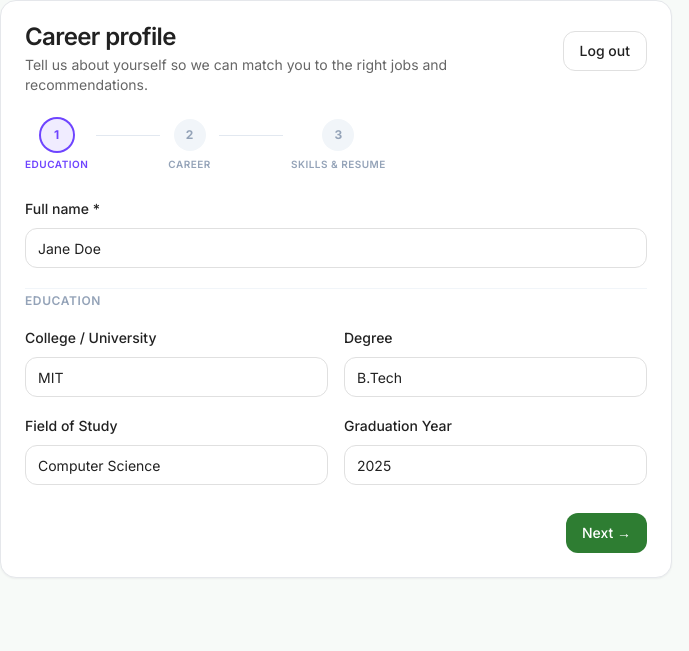
Test: ProfileForm › saves profile on final step submission
Expected: the field labelled "Full name *" is shown, [25, 228, 647, 268]
Click the button "Next →". click: (606, 533)
box: [566, 513, 647, 553]
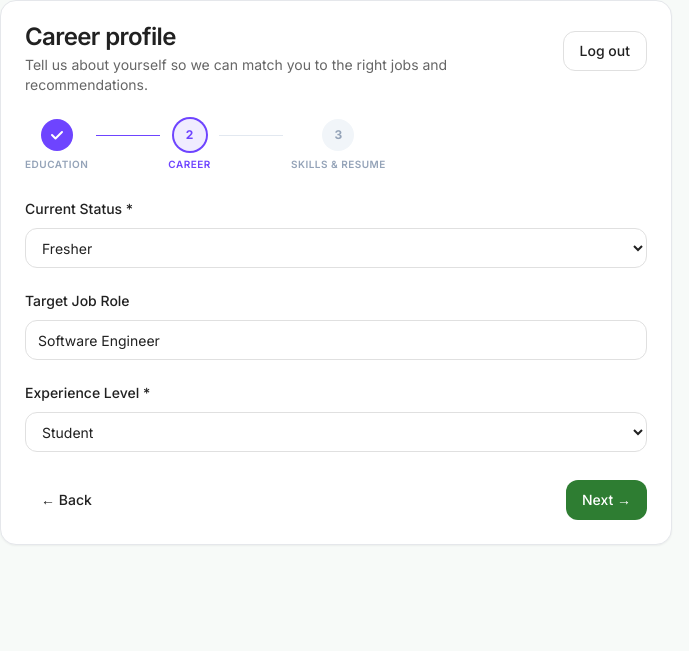
Expected: the dropdown labelled "Current Status *" is shown, [25, 228, 647, 268]
Click the button "Next →". click: (606, 500)
box: [566, 480, 647, 520]
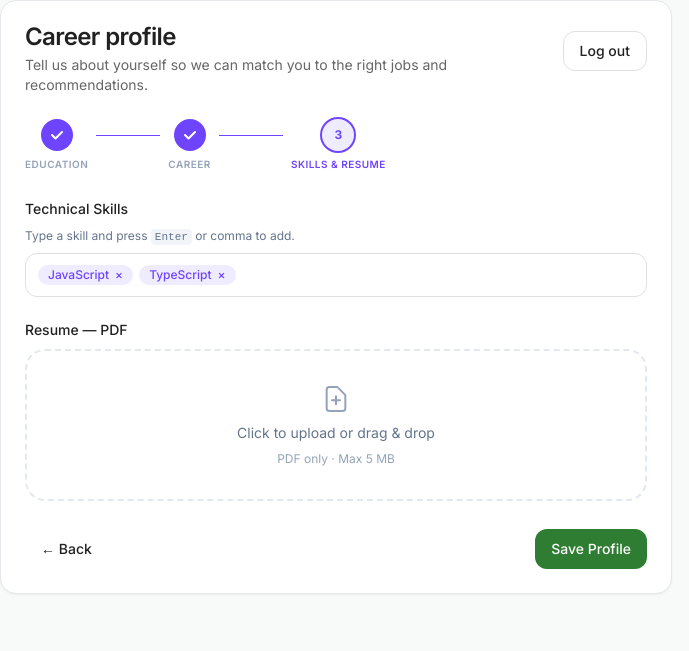
Click the button "Save Profile". click: (591, 549)
box: [535, 529, 647, 569]
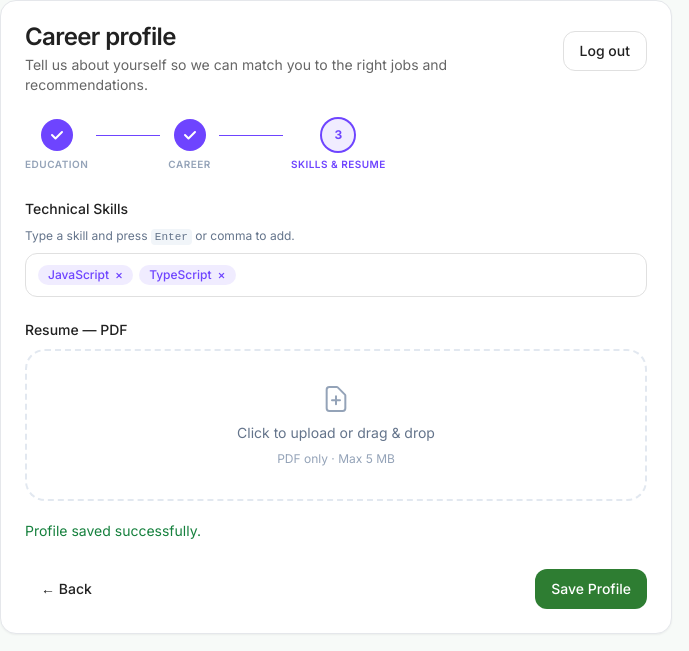
Expected: the text "Profile saved successfully." is shown, [25, 522, 201, 539]
